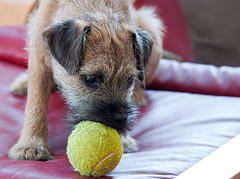tennis ball: (65, 120, 123, 178)
